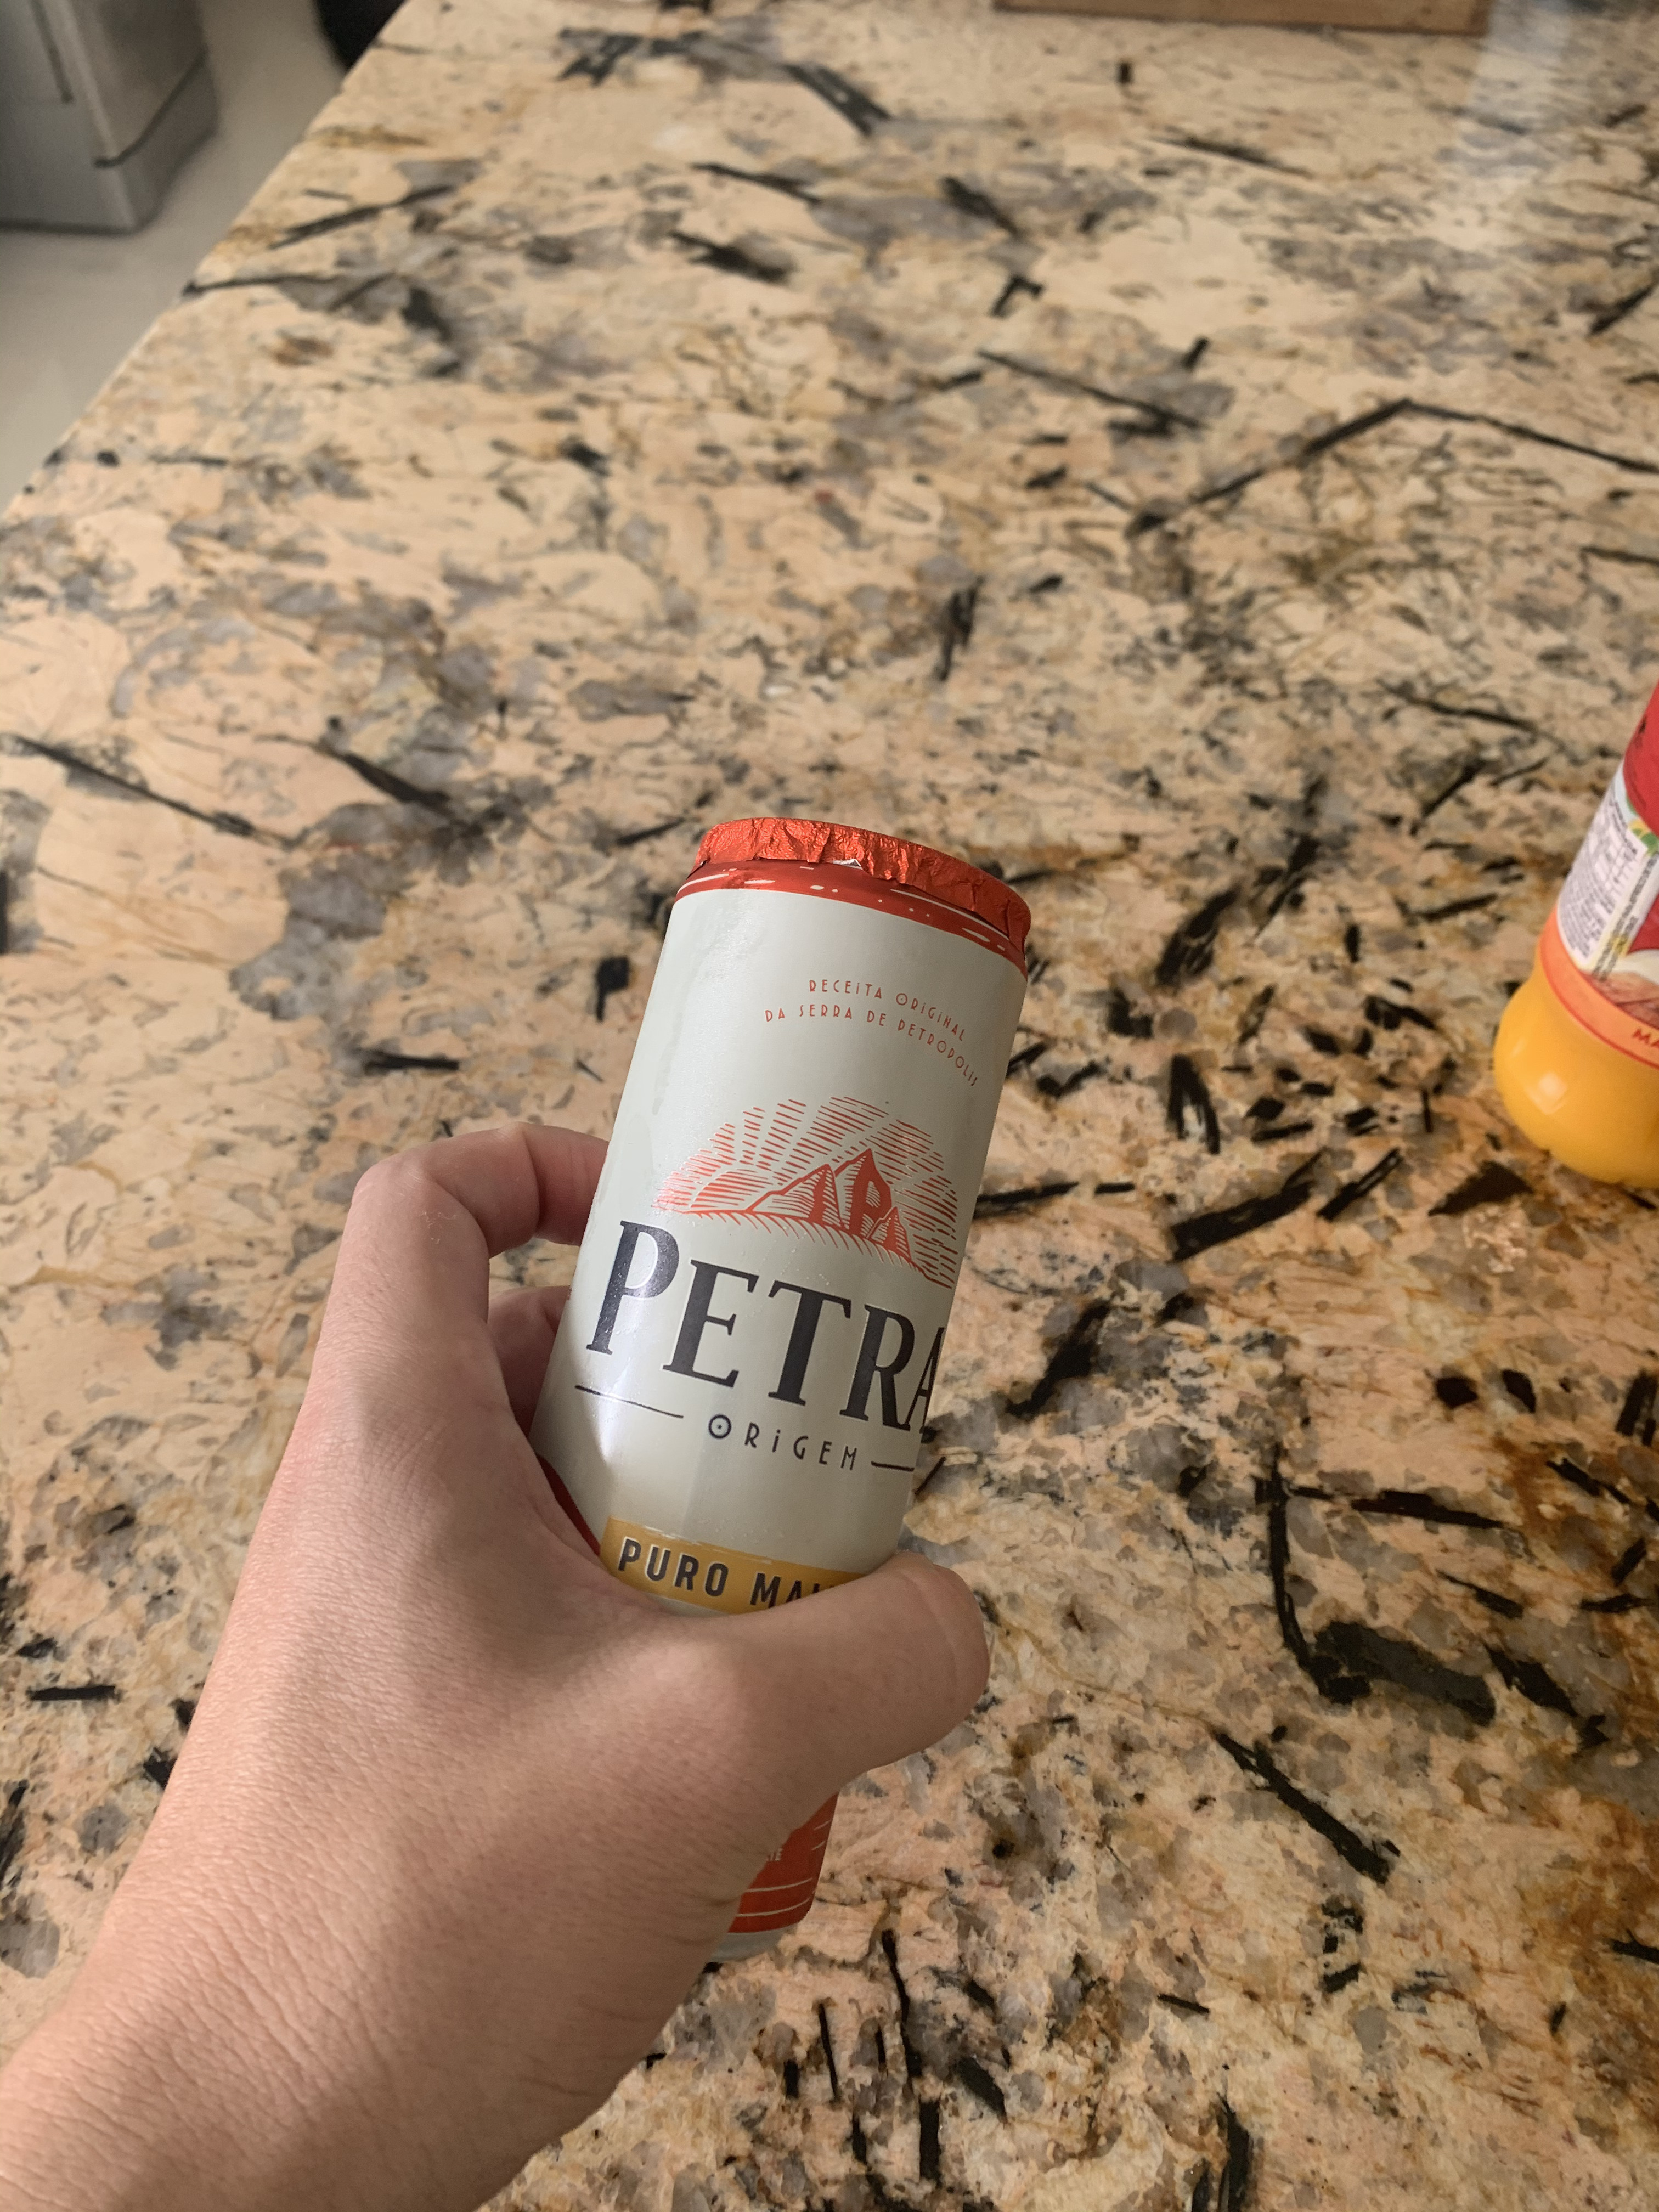petra: (455, 749, 1089, 1575)
